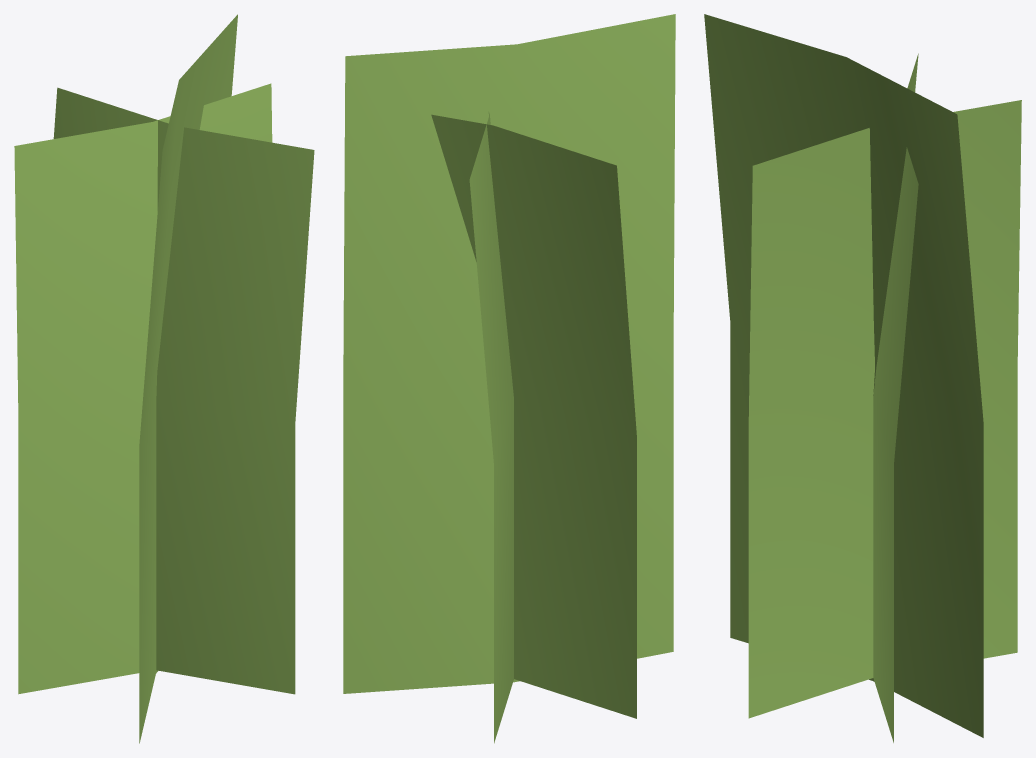
File: GrassPlanes_a_TwoS_07.fbx
3 views of the same model, side by side, from view 1: azimuth 30°, elevation 25°; view 2: azimuth 150°, elevation 25°; view 3: azimuth 270°, elevation 25° (orthographic). The views are drawn at different scales.
Parts seen in each view (by area): view 1: GrassPlanes_a_TwoS_07; view 2: GrassPlanes_a_TwoS_07; view 3: GrassPlanes_a_TwoS_07.
Part boxes in pixels (box(x1,y1,x2,y2)): GrassPlanes_a_TwoS_07: box(14, 14, 314, 743); GrassPlanes_a_TwoS_07: box(343, 14, 675, 743); GrassPlanes_a_TwoS_07: box(704, 14, 1021, 742).
Size of the model in its own units: 35.66 by 77.31 by 35.38.
